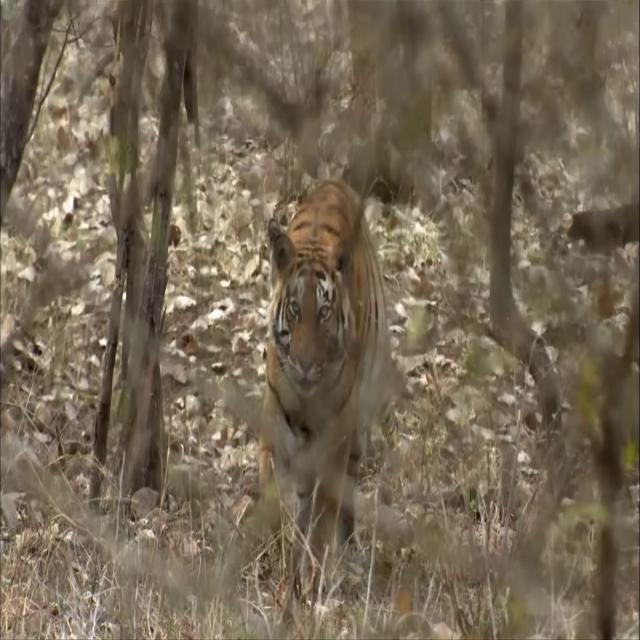tiger: (258, 169, 398, 592)
